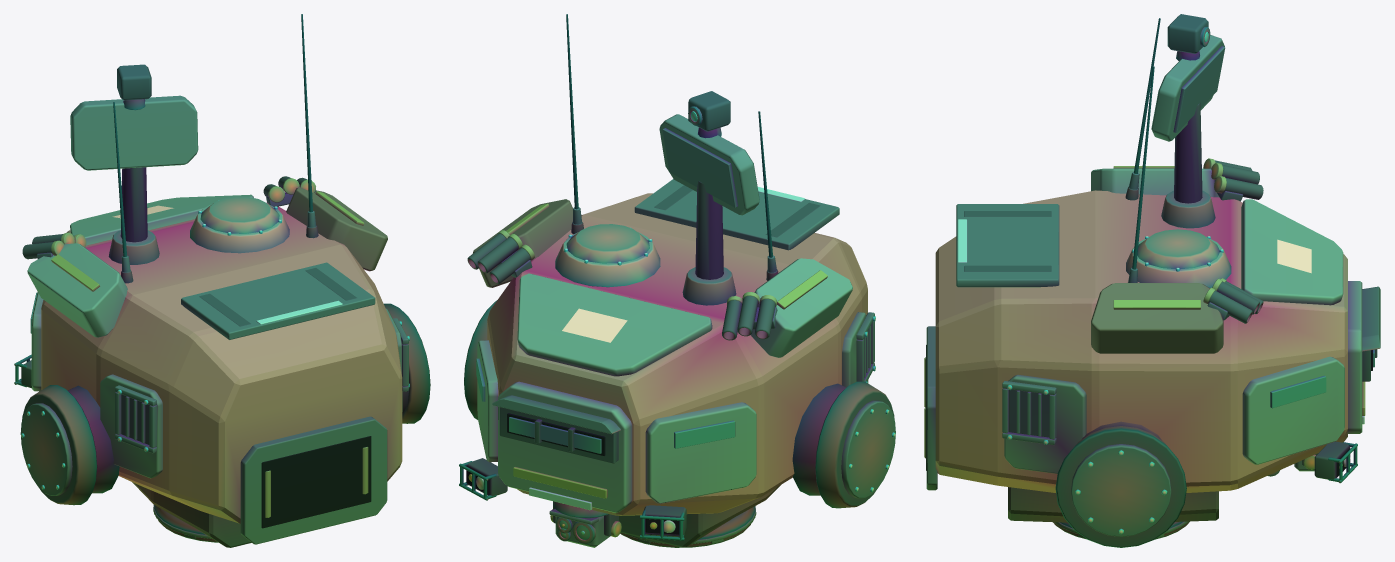
File: core_command.glb
The picture shows the model from 3 angles, left to right: view 1: azimuth 30°, elevation 25°; view 2: azimuth 150°, elevation 25°; view 3: azimuth 270°, elevation 25°; orthographic projection. The views are drawn at different scales.
Visible parts, largest first — view 1: Body__armor_sub, Body__gunmetal, Body__dark, Body__armor, Body__bore, Body__armor_oxide, Body__brass, Body__accent, Body__copper; view 2: Body__armor_sub, Body__armor, Body__dark, Body__gunmetal, Body__armor_dark, Body__glass, Body__armor_oxide, Body__accent, Body__decal, Body__bore, Body__hazard, Body__brass; view 3: Body__armor_sub, Body__gunmetal, Body__armor, Body__dark, Body__armor_oxide, Body__armor_dark, Body__accent, Body__glass, Body__decal, Body__brass.
Part boxes in pixels (box(x1,y1,x2,y2)): Body__armor_sub: box(41, 95, 402, 523); Body__gunmetal: box(14, 99, 408, 544); Body__dark: box(21, 14, 430, 547); Body__armor: box(27, 194, 289, 391); Body__bore: box(261, 436, 371, 528); Body__armor_oxide: box(286, 187, 387, 271); Body__brass: box(51, 178, 315, 255); Body__accent: box(51, 191, 364, 291); Body__copper: box(265, 447, 368, 517); Body__armor_sub: box(487, 114, 868, 515); Body__armor: box(477, 231, 852, 512); Body__dark: box(464, 14, 894, 547); Body__gunmetal: box(459, 106, 895, 544); Body__armor_dark: box(555, 128, 737, 547); Body__glass: box(476, 358, 735, 539); Body__armor_oxide: box(473, 199, 572, 287); Body__accent: box(506, 203, 827, 498); Body__decal: box(562, 308, 627, 342); Body__bore: box(467, 413, 679, 534); Body__hazard: box(529, 187, 804, 510); Body__brass: box(498, 230, 776, 537); Body__armor_sub: box(935, 35, 1347, 492); Body__gunmetal: box(926, 27, 1380, 538); Body__armor: box(1091, 168, 1362, 464); Body__dark: box(964, 14, 1377, 547); Body__armor_oxide: box(1091, 283, 1223, 353); Body__armor_dark: box(1173, 46, 1314, 471); Body__accent: box(1113, 166, 1365, 415); Body__glass: box(1270, 349, 1374, 408); Body__decal: box(1277, 239, 1311, 273); Body__brass: box(1203, 158, 1315, 469).
Size of the model in its own units: 1.73 by 2.12 by 1.77.
